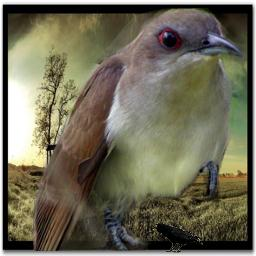Crow: (152, 223, 203, 253)
Cuckoo: (33, 8, 244, 251)
